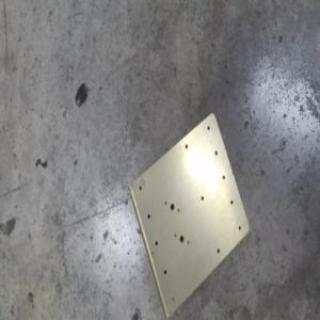MetalSheettrack_idkeyframe: (126, 110, 249, 318)
